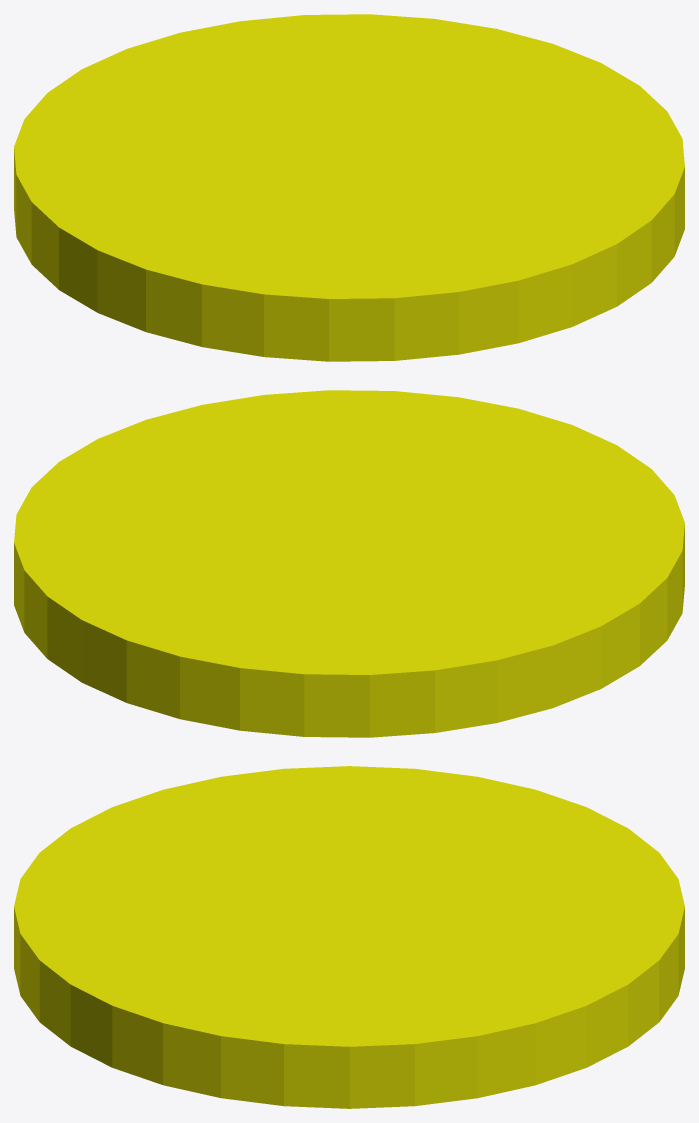
File: coin.fbx
3 renders of one model, top to bottom at view 1: azimuth 30°, elevation 25°; view 2: azimuth 150°, elevation 25°; view 3: azimuth 270°, elevation 25°, orthographic.
Parts seen in each view (by area): view 1: Cylinder; view 2: Cylinder; view 3: Cylinder.
Part boxes in pixels (x1,y1,x2,y2): Cylinder: (14,14,684,361); Cylinder: (14,390,684,737); Cylinder: (14,766,684,1108).
Bounding box in the file's own units: 180 × 18.54 × 182.
